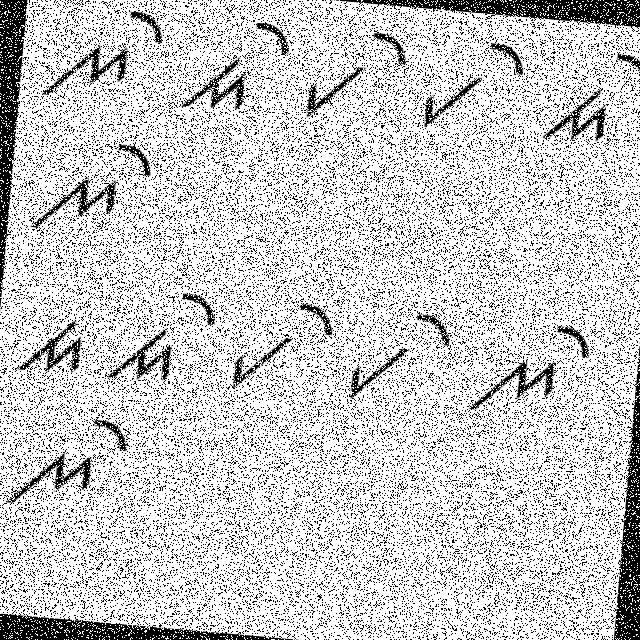da: (10, 310, 94, 388)
day: (176, 3, 291, 126), (100, 282, 220, 398), (540, 39, 639, 161)
nay: (0, 401, 137, 532), (462, 308, 596, 430), (37, 0, 173, 116), (29, 130, 158, 240)
pay: (288, 18, 414, 138), (413, 23, 530, 144), (221, 286, 340, 403), (341, 300, 455, 422)
